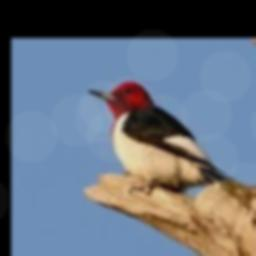Woodpecker: (88, 82, 230, 188)
